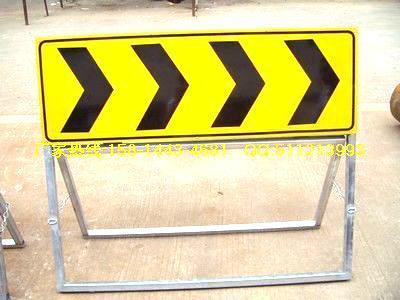sign: (35, 38, 355, 136)
